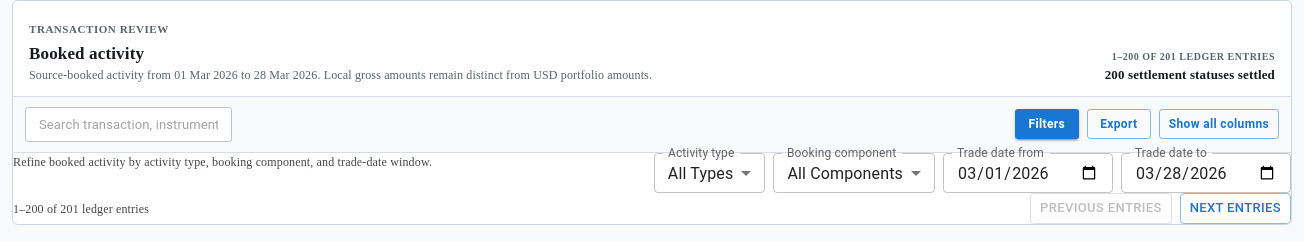
Test: portfolio data grids › uses Gateway ledger metadata to page beyond the initial 200 entries
The image size is (1304, 242).
Expected: the 1st text "1–200 of 201 ledger entries" is shown, [1112, 50, 1275, 64]
Click the button "Next entries" at (1235, 209), box [1180, 193, 1291, 224]
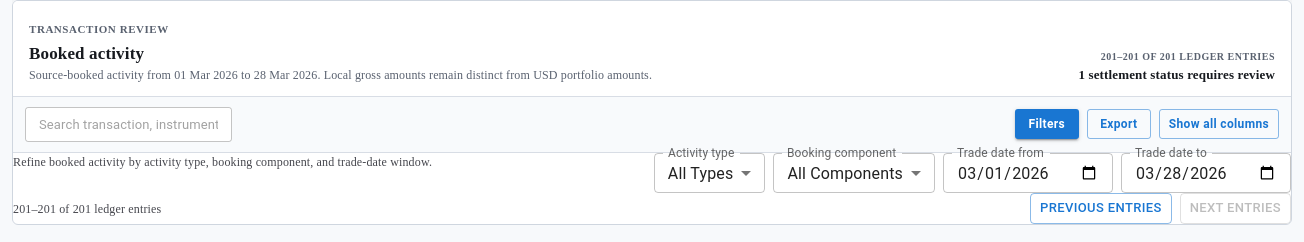
Expected: the 1st text "201–201 of 201 ledger entries" is shown, [1101, 50, 1275, 64]
Expected: the text "1 settlement status requires review" is shown, [1078, 66, 1275, 84]
Expected: the button "Previous entries" is enabled, [1030, 193, 1172, 224]
